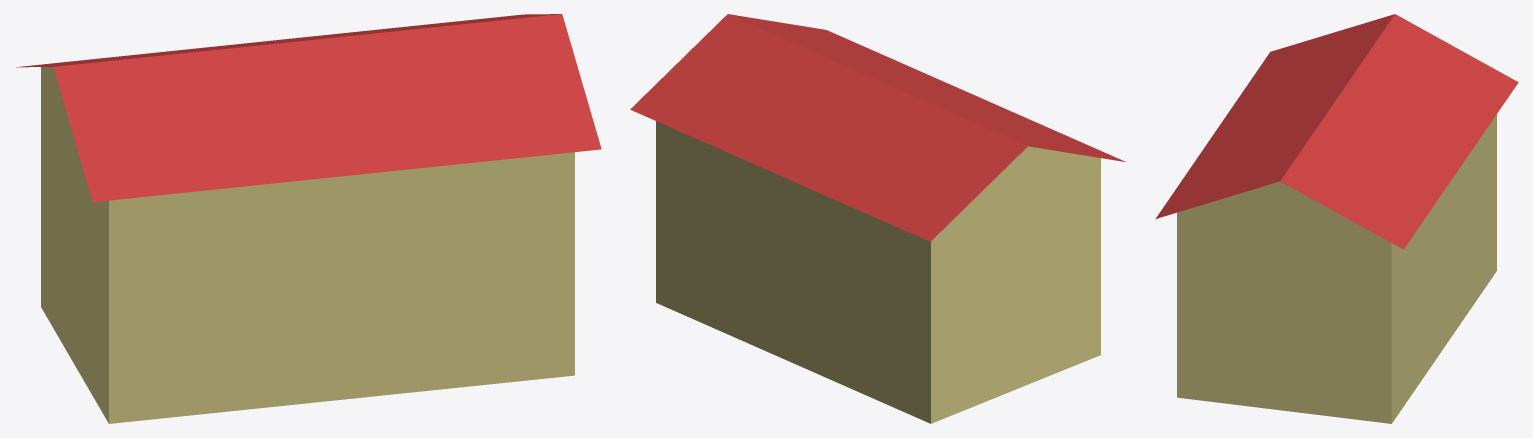
The picture shows the model from 3 angles, left to right: view 1: azimuth 30°, elevation 25°; view 2: azimuth 150°, elevation 25°; view 3: azimuth 270°, elevation 25°; orthographic projection. The views are drawn at different scales.
Parts seen in each view (by area): view 1: group_5, group_3, group_4; view 2: group_5, group_3, group_4; view 3: group_5, group_3, group_4.
Boxes of the visible parts, left/top/right/bottom form: group_5: left=41, top=67, right=574, bottom=423; group_3: left=43, top=14, right=601, bottom=202; group_4: left=16, top=14, right=556, bottom=201; group_5: left=656, top=121, right=1100, bottom=423; group_3: left=630, top=14, right=1120, bottom=240; group_4: left=633, top=14, right=1126, bottom=241; group_5: left=1177, top=114, right=1496, bottom=423; group_3: left=1155, top=14, right=1496, bottom=249; group_4: left=1250, top=14, right=1518, bottom=247.
Bounding box in the file's own units: 20.13 × 15.63 × 11.22.
